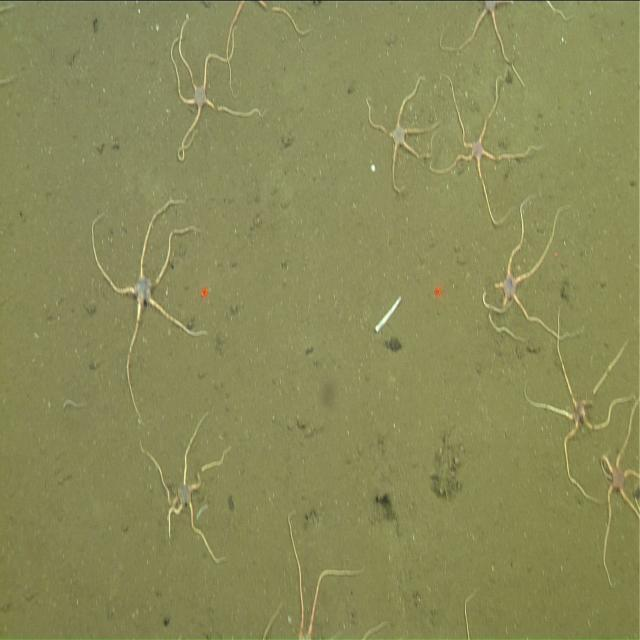Brittle Star: (86, 186, 209, 424), (522, 306, 634, 492), (430, 68, 544, 225), (136, 407, 236, 570), (162, 13, 267, 168), (476, 196, 571, 350), (575, 427, 640, 589), (360, 73, 438, 195)
